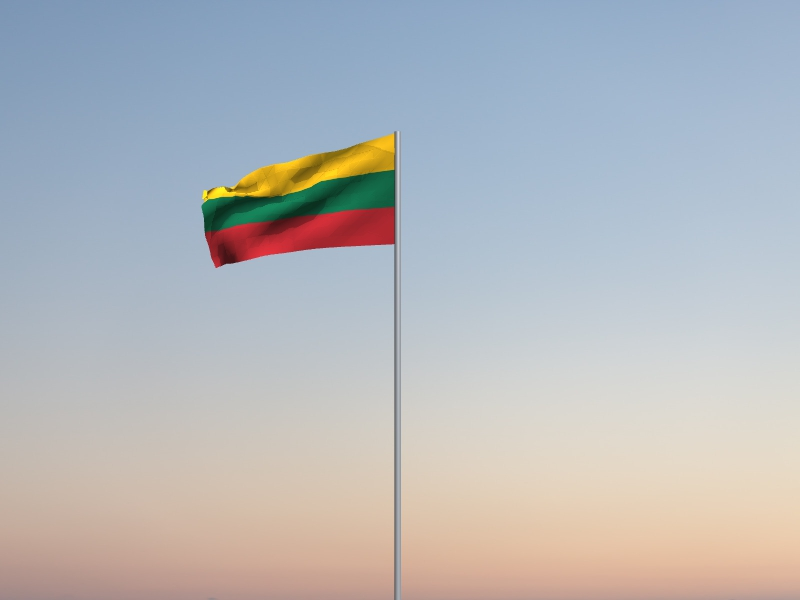lt: (201, 134, 394, 270)
